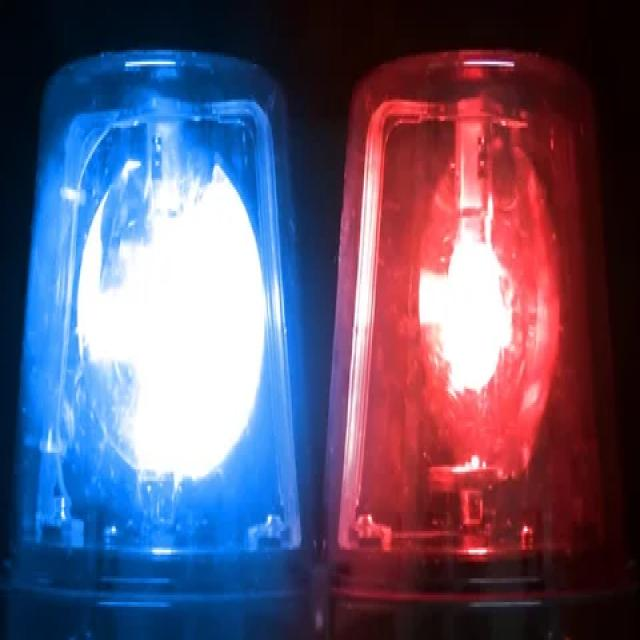emergency lights: (17, 35, 637, 626)
